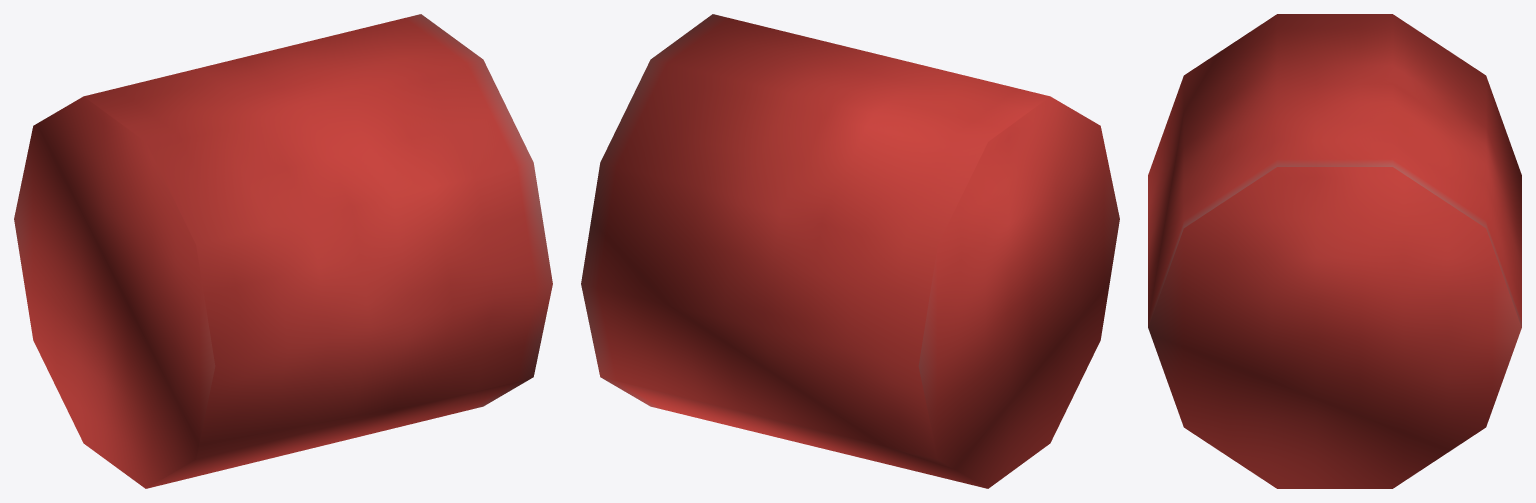
Rendered from Turret.FBX.
The picture shows the model from 3 angles, left to right: view 1: azimuth 30°, elevation 25°; view 2: azimuth 150°, elevation 25°; view 3: azimuth 270°, elevation 25°; orthographic projection. The views are drawn at different scales.
Parts seen in each view (by area): view 1: turret; view 2: turret; view 3: turret.
Part boxes in pixels (x1,y1,x2,y2): turret: (14, 14, 552, 488); turret: (581, 14, 1119, 488); turret: (1148, 14, 1521, 488).
Bounding box in the file's own units: 11.2 × 11 × 11.56.
1 material, 1 textured.
